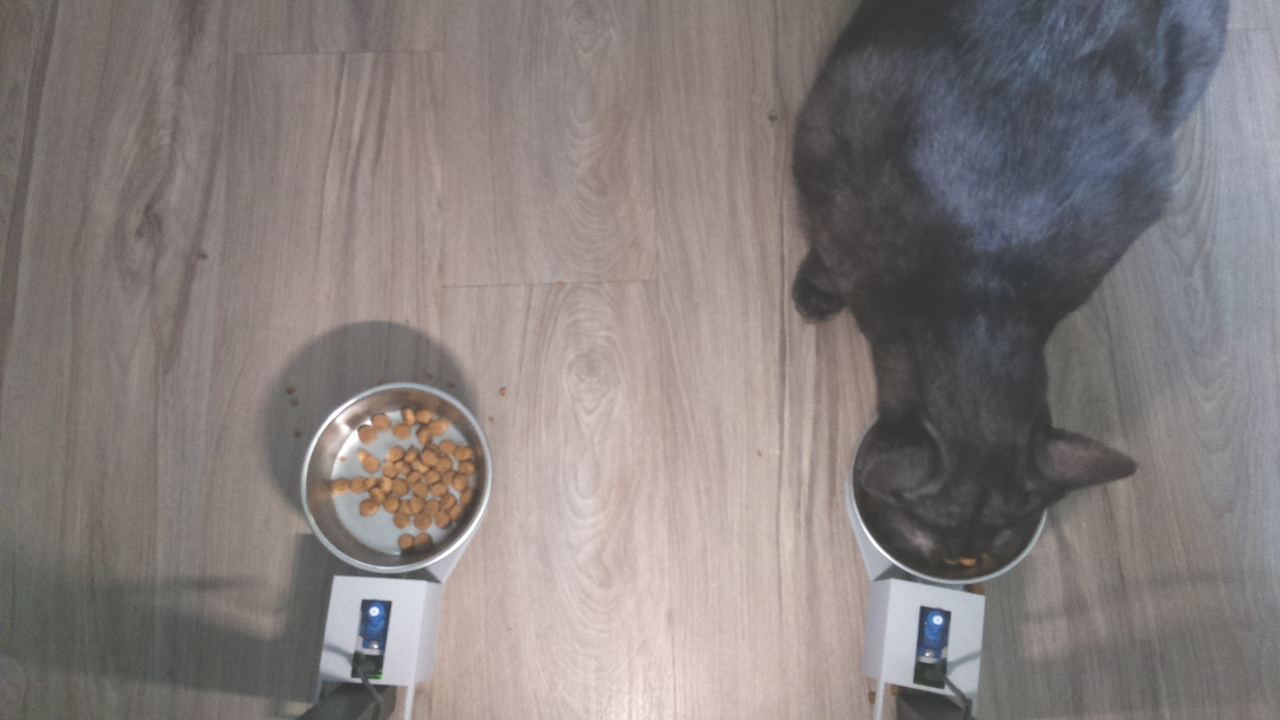open_bowl: (291, 372, 498, 575)
saki_eating: (826, 341, 1140, 584)
